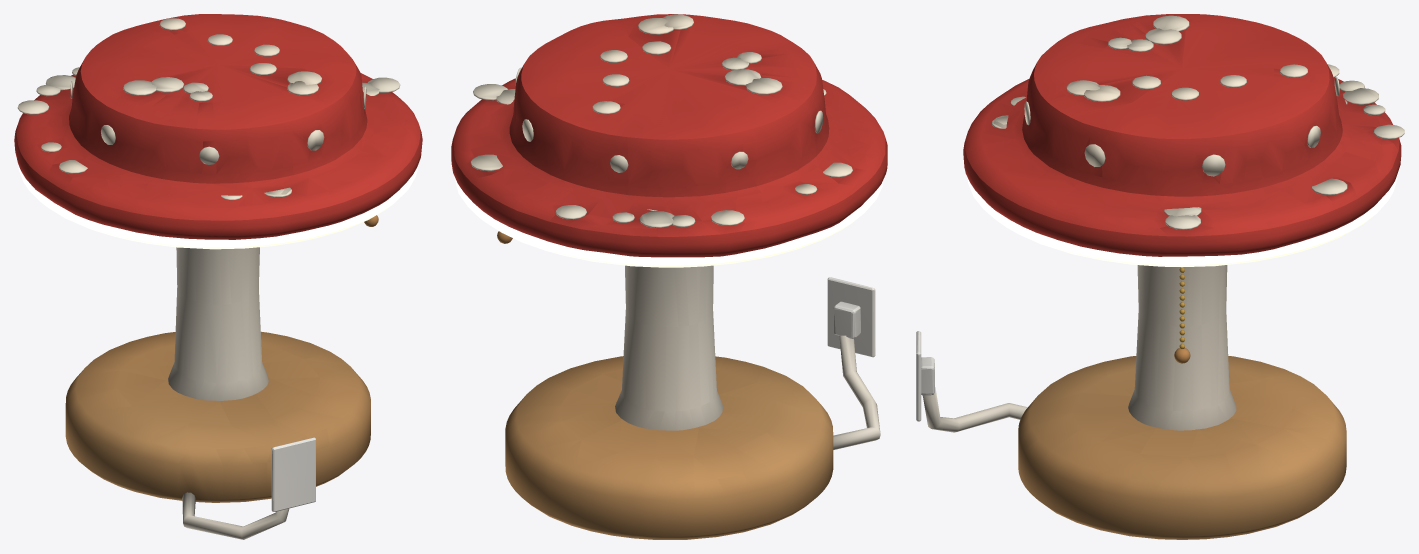
Rendered from den_toadstool_lamp_lod1.glb.
3 renders of one model, left to right at view 1: azimuth 30°, elevation 25°; view 2: azimuth 150°, elevation 25°; view 3: azimuth 270°, elevation 25°, orthographic. The views are drawn at different scales.
Parts seen in each view (by area): view 1: den_toadstool_lamp.001; view 2: den_toadstool_lamp.001; view 3: den_toadstool_lamp.001.
Boxes of the visible parts, left/top/right/bottom form: den_toadstool_lamp.001: left=14, top=14, right=422, bottom=539; den_toadstool_lamp.001: left=451, top=14, right=887, bottom=539; den_toadstool_lamp.001: left=916, top=14, right=1404, bottom=539.
Bounding box in the file's own units: 24.25 × 24.64 × 26.77.
